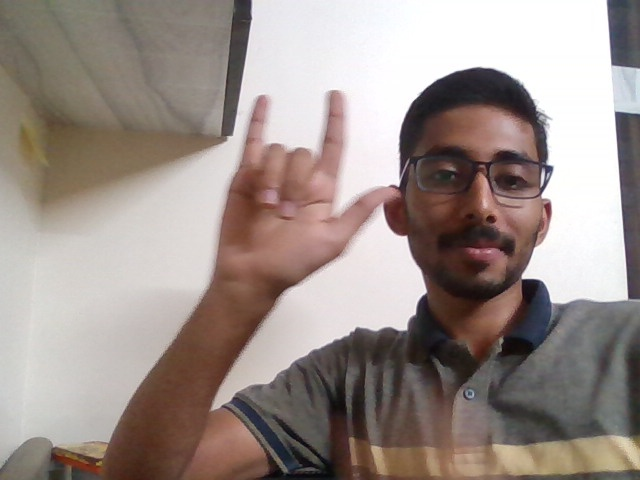Enjoy: (199, 75, 410, 322)
